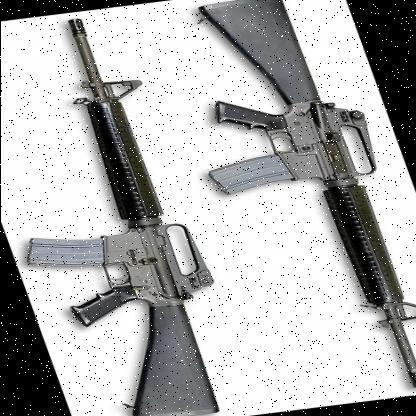rifle: (150, 0, 416, 404), (0, 12, 258, 416)
